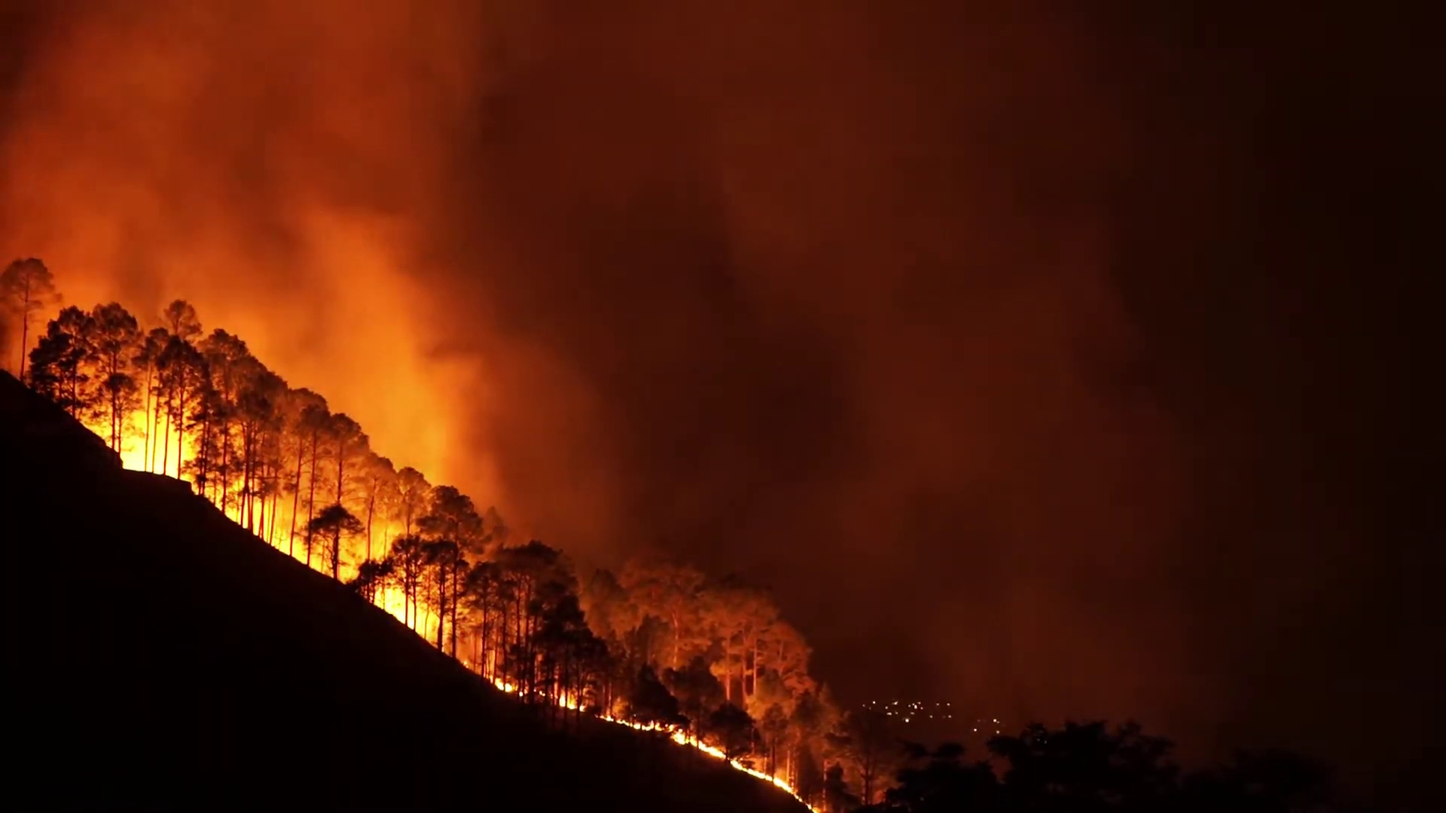forest_fire: (3, 259, 848, 808), (853, 769, 856, 771)
